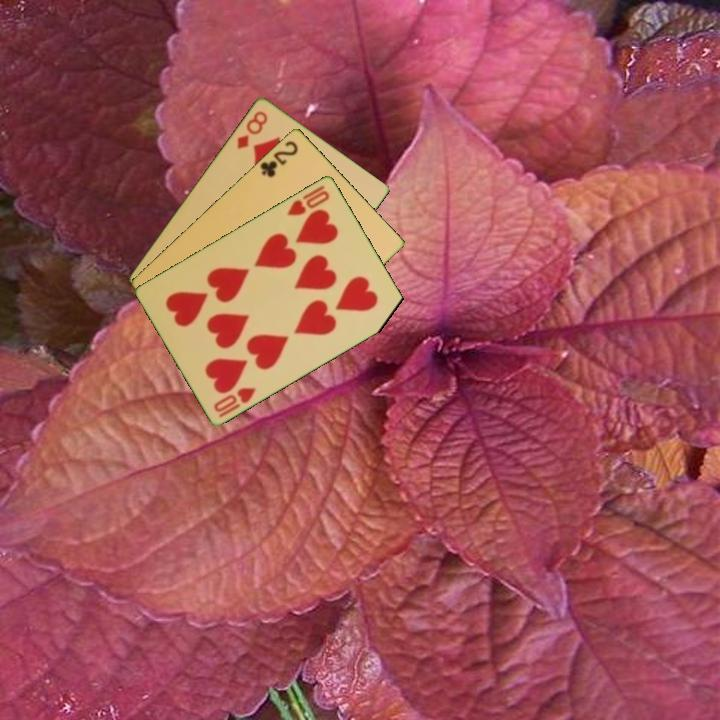10h: (283, 181, 333, 218), (210, 383, 259, 420)
2c: (256, 137, 301, 180)
8d: (233, 107, 270, 152)
